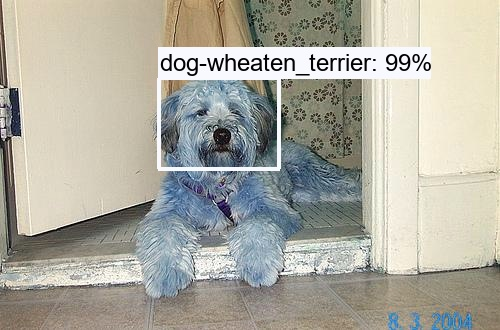dog-wheaten_terrier: (157, 75, 272, 167)
